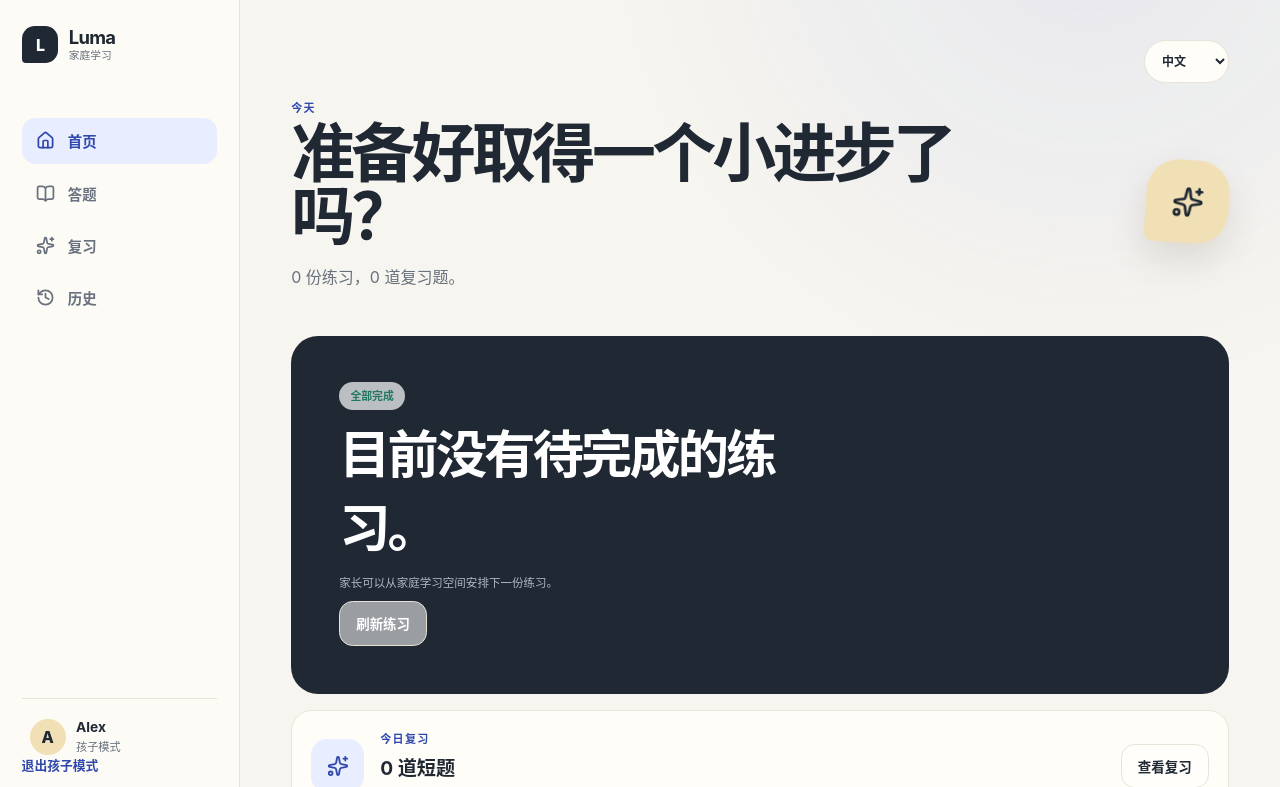
Test: ChildHomePage › lets a child refresh an empty plan after a parent assigns new work
The width and height of the screenshot is (1280, 787).
Expected: the heading "目前没有待完成的练习。" is shown, [339,414,795,562]
Click the button "刷新练习" at point(383, 623), box [339,601,427,646]
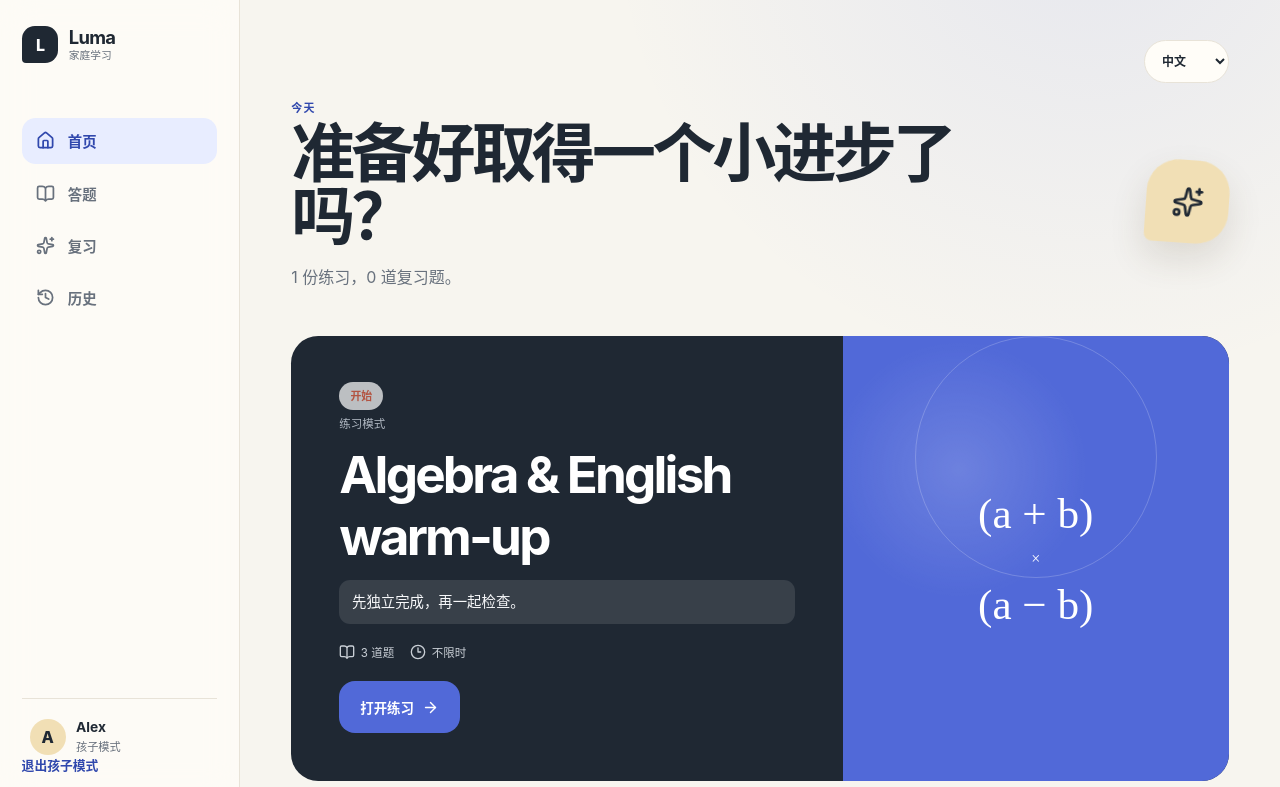
Expected: the heading "Algebra & English warm-up" is shown, [339,443,795,567]
